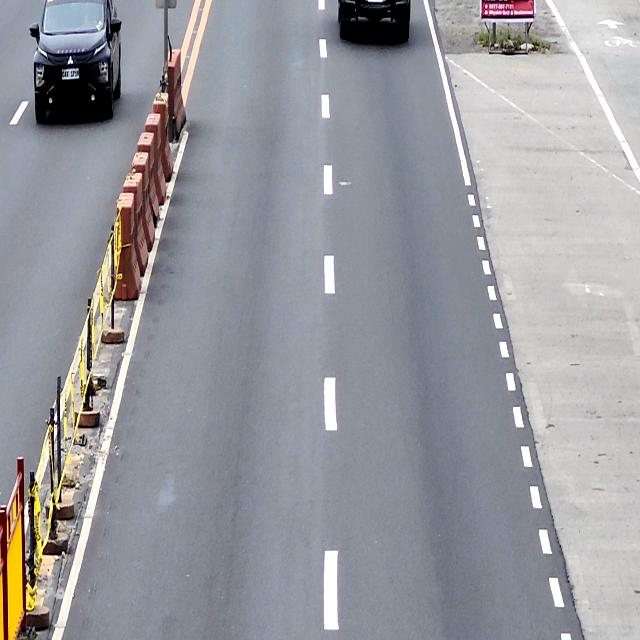Car: (337, 0, 412, 43)
